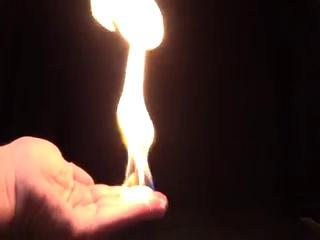Fire: (101, 1, 160, 199)
